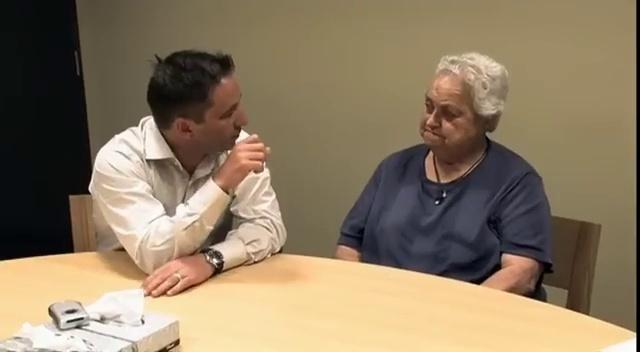others: (87, 48, 287, 298)
patient: (334, 51, 554, 300)
